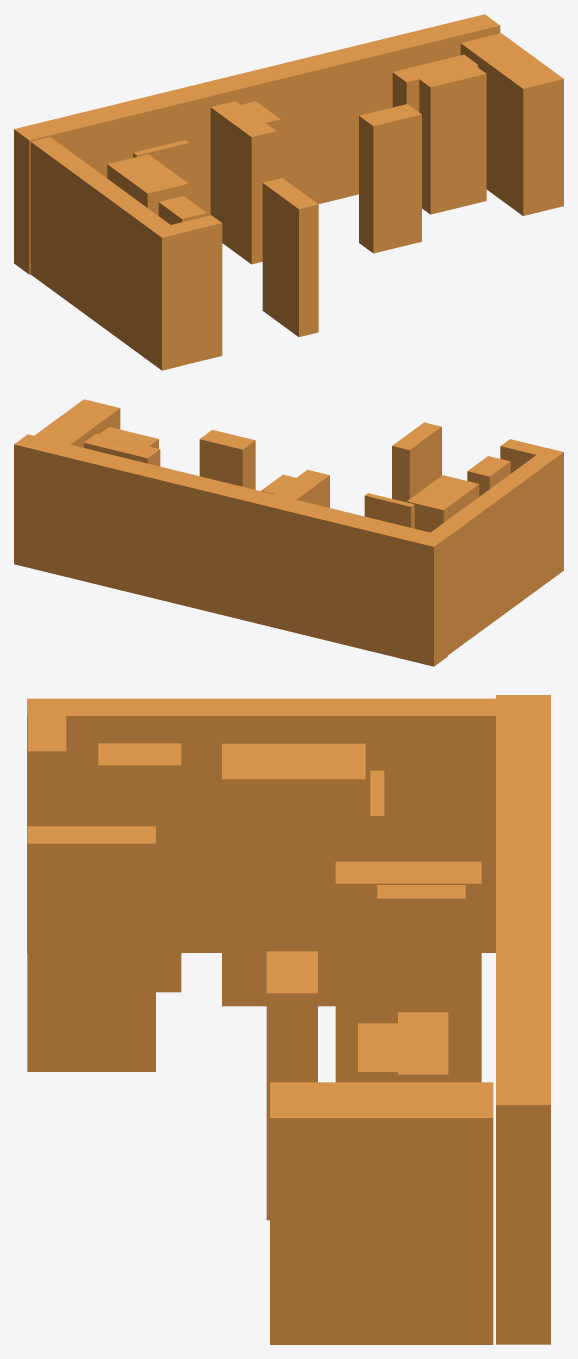
File: Counter_8_Exhibition_Colliders.FBX
3 renders of one model, top to bottom at view 1: azimuth 30°, elevation 25°; view 2: azimuth 150°, elevation 25°; view 3: azimuth 270°, elevation 25°, orthographic. The views are drawn at different scales.
Visible parts, largest first — view 1: Counter_8_Exhibition_Colliders; view 2: Counter_8_Exhibition_Colliders; view 3: Counter_8_Exhibition_Colliders.
Boxes of the visible parts, x1=… form: Counter_8_Exhibition_Colliders: x1=14, y1=14, x2=563, y2=370; Counter_8_Exhibition_Colliders: x1=14, y1=399, x2=563, y2=666; Counter_8_Exhibition_Colliders: x1=27, y1=695, x2=550, y2=1344.
Bounding box in the file's own units: 1205 × 328 × 651.
